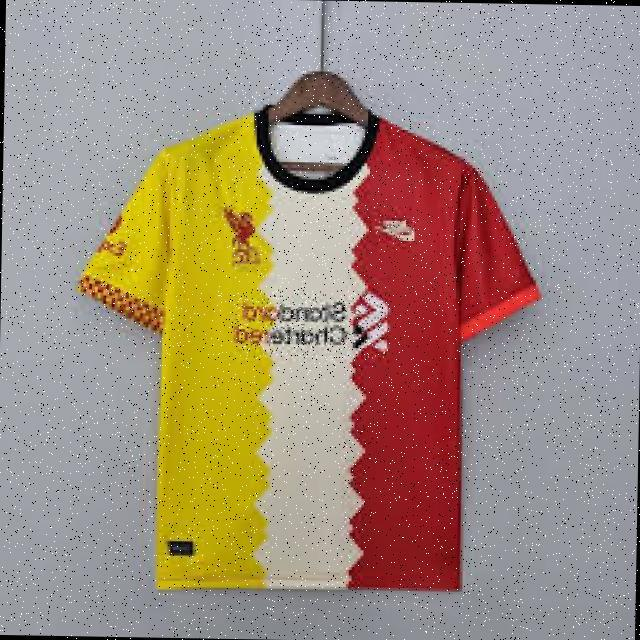Nike: (375, 215, 417, 244)
Standard Chartered: (235, 289, 389, 359)
